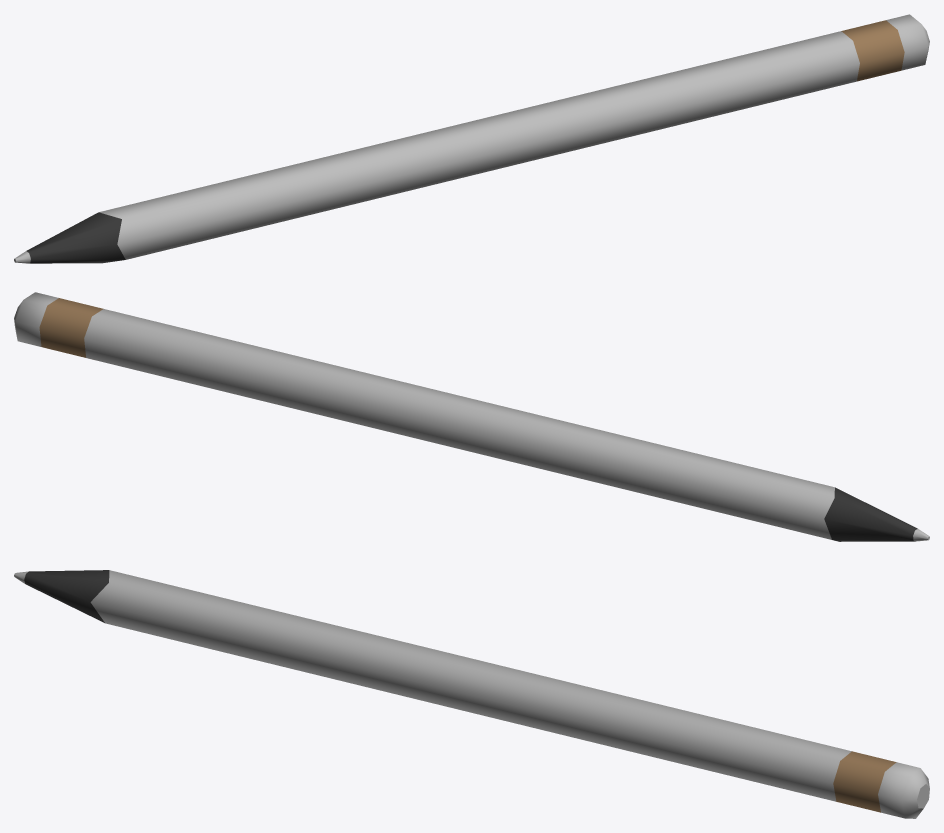
The model's file is Pencil.FBX.
The picture shows the model from 3 angles, top to bottom: view 1: azimuth 30°, elevation 25°; view 2: azimuth 150°, elevation 25°; view 3: azimuth 330°, elevation 25°; orthographic projection.
Parts seen in each view (by area): view 1: Pencil; view 2: Pencil; view 3: Pencil.
Part boxes in pixels (x1,y1,x2,y2): Pencil: [14, 14, 929, 263]; Pencil: [14, 292, 929, 541]; Pencil: [14, 570, 929, 818].
Size of the model in its own units: 7.2 by 0.3652 by 0.36.
